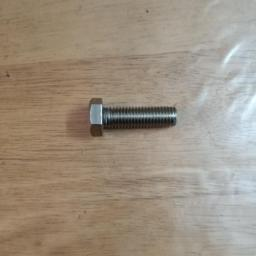screwtype2silver: (82, 94, 179, 142)
